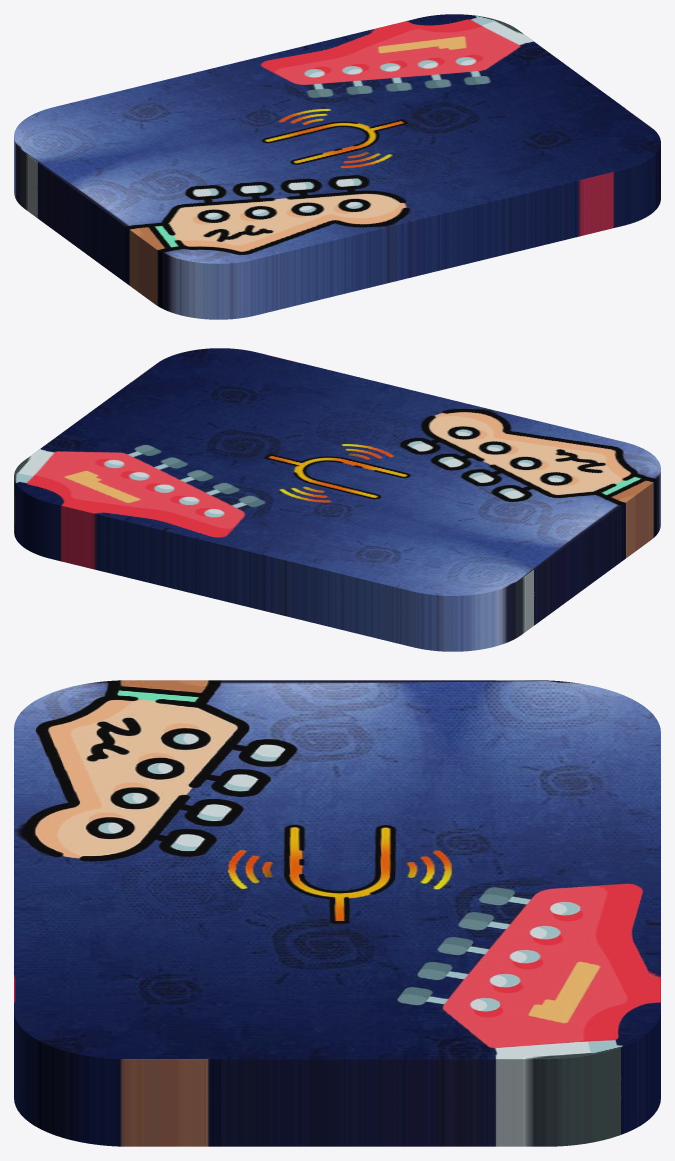
File: tuner.glb
3 views of the same model, one above another, from view 1: azimuth 30°, elevation 25°; view 2: azimuth 150°, elevation 25°; view 3: azimuth 270°, elevation 25° (orthographic). The views are drawn at different scales.
Visible parts, largest first — view 1: Plane; view 2: Plane; view 3: Plane.
Part boxes in pixels (<box>): Plane: <box>14,14,660,319</box>; Plane: <box>14,348,660,651</box>; Plane: <box>14,680,660,1146</box>.
Size of the model in its own units: 3.9 by 0.4196 by 2.81.
Materials: 1 (1 with a texture image).
